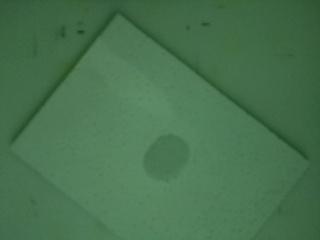Water_detected: (153, 139, 190, 186)
